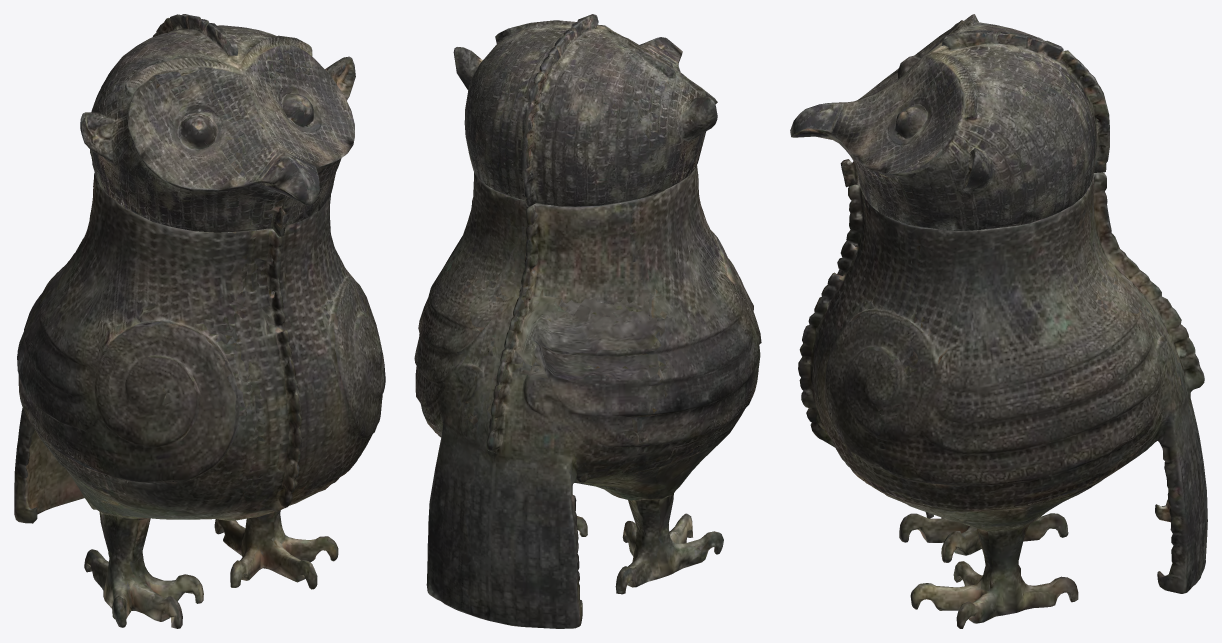
The model's file is owl_zun_wine_vessel_13th-12th_century_bce.glb.
The picture shows the model from 3 angles, left to right: view 1: azimuth 30°, elevation 25°; view 2: azimuth 150°, elevation 25°; view 3: azimuth 270°, elevation 25°; orthographic projection. The views are drawn at different scales.
Visible parts, largest first — view 1: Body_BODY_MAT_0, Head; view 2: Body_BODY_MAT_0, Head; view 3: Body_BODY_MAT_0, Head.
Part boxes in pixels (<box>): Body_BODY_MAT_0: <box>14,173,385,628</box>; Head: <box>80,14,355,236</box>; Body_BODY_MAT_0: <box>414,165,761,628</box>; Head: <box>453,14,717,207</box>; Body_BODY_MAT_0: <box>798,172,1207,628</box>; Head: <box>790,14,1109,231</box>.
Bounding box in the file's own units: 0.2055 × 0.3478 × 0.2402.
2 materials, 2 textured.
